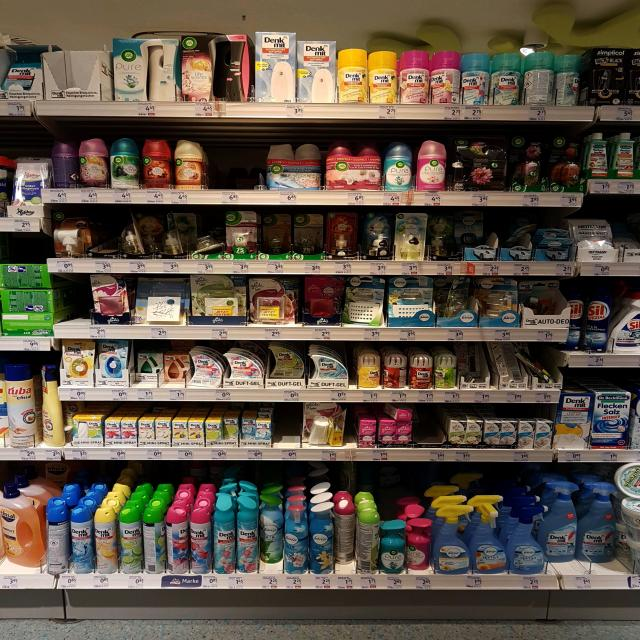empty_space: (209, 135, 259, 185), (63, 278, 89, 322), (420, 407, 443, 441), (280, 408, 300, 441)
